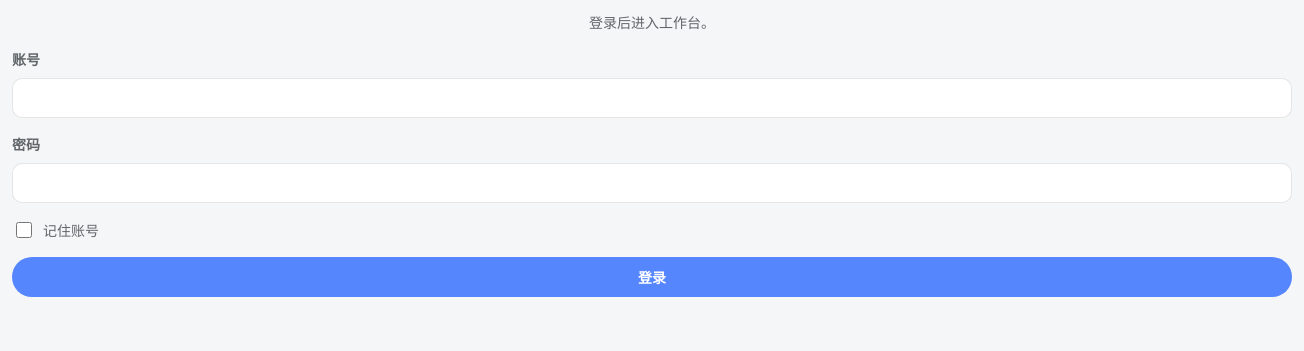
Test: LoginPage 登录页 › INVALID_CREDENTIALS 展示分支提示且停留登录页
The image size is (1304, 351).
Type "manager" into the field labelled "账号" at (652, 98), box [12,78,1292,118]
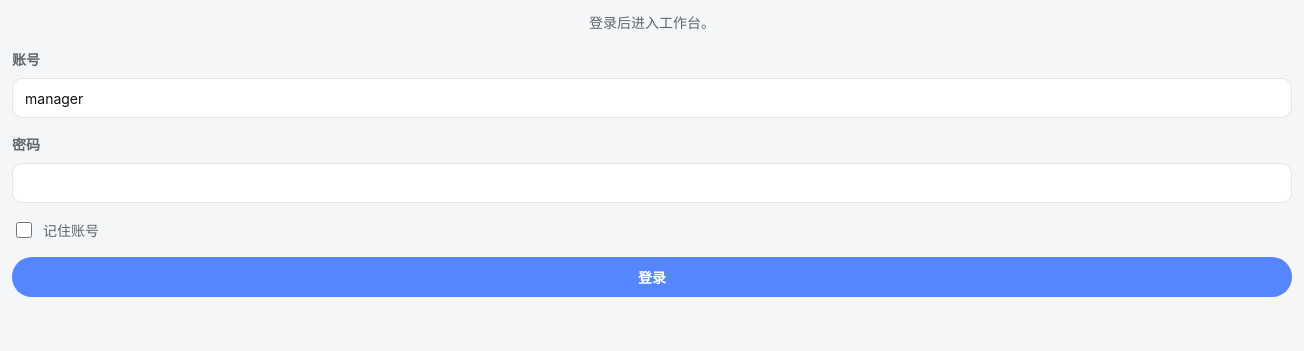
Type "wrong" into the password field labelled "密码" at (652, 183), box [12,163,1292,203]
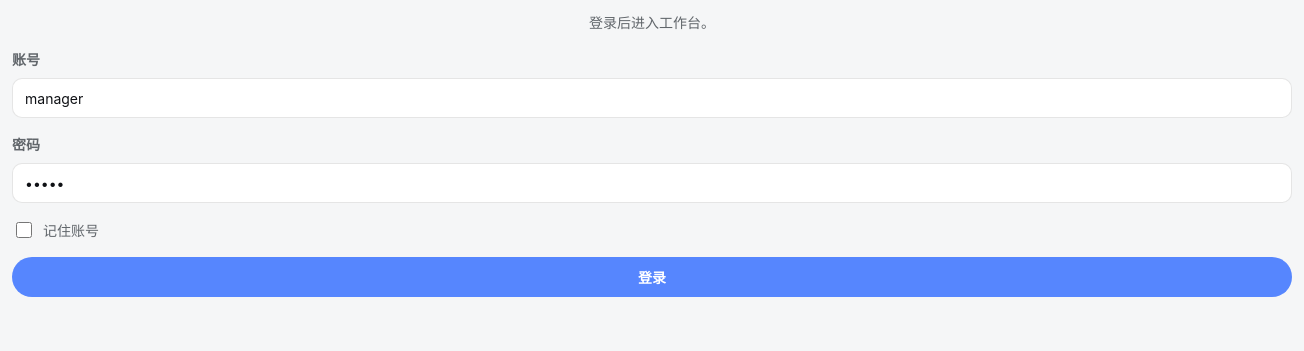
Click the button "登录" at (652, 277), box [12,257,1292,297]
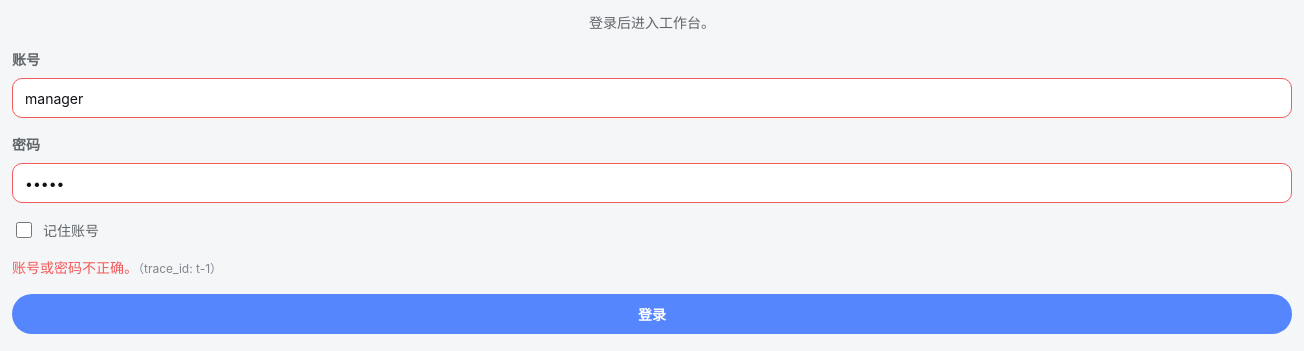
expect the button "登录" is shown: met, box [12,294,1292,334]
expect the message shows "账号或密码不正确。": met, box [12,259,138,276]
